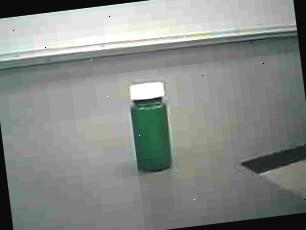Bottle C: (114, 71, 188, 184)
